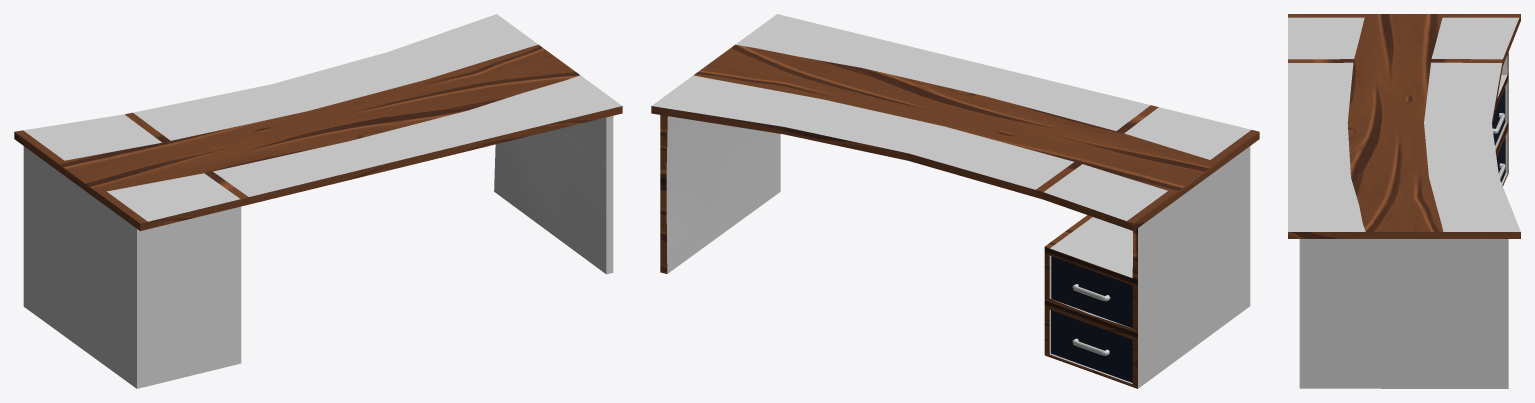
File: MesaP.fbx
3 views of the same model, side by side, from view 1: azimuth 30°, elevation 25°; view 2: azimuth 150°, elevation 25°; view 3: azimuth 270°, elevation 25° (orthographic). The views are drawn at different scales.
Visible parts, largest first — view 1: MesaP; view 2: MesaP; view 3: MesaP.
Part boxes in pixels (x1,y1,x2,y2): MesaP: [14, 14, 622, 388]; MesaP: [651, 14, 1259, 388]; MesaP: [1288, 14, 1520, 388].
Size of the model in its own units: 238 by 80.59 by 108.
